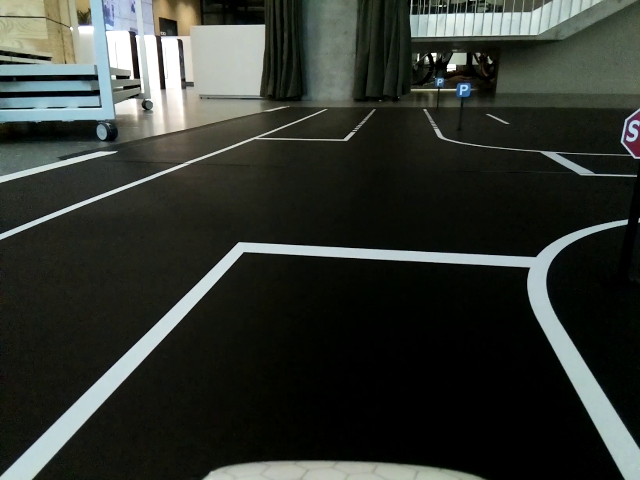stop: (624, 112, 640, 151)
